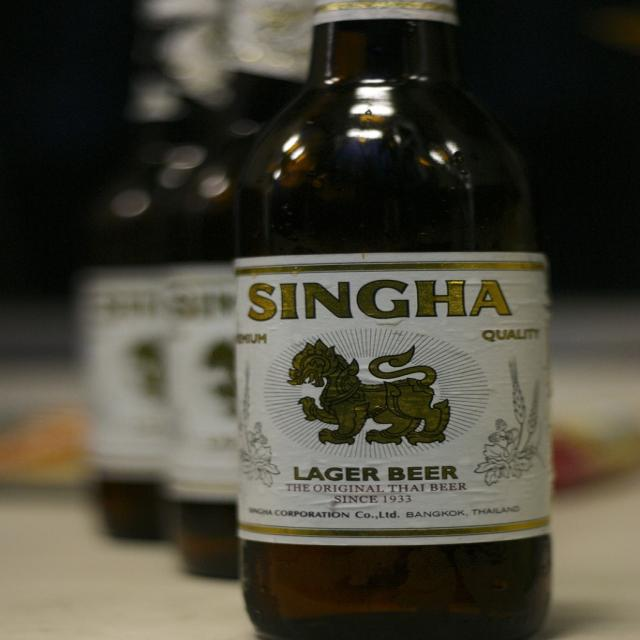singha: (235, 264, 551, 540)
